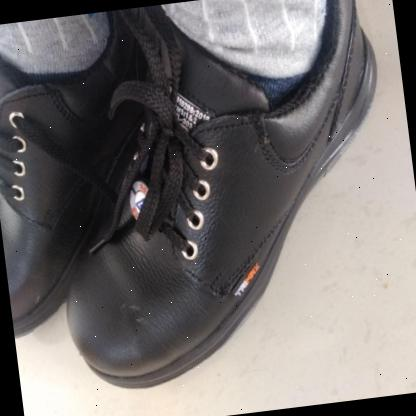bota: (28, 0, 416, 400), (0, 6, 178, 342)
